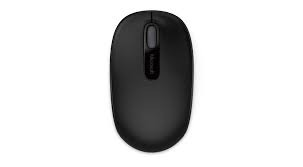mouse: (106, 5, 198, 156)
